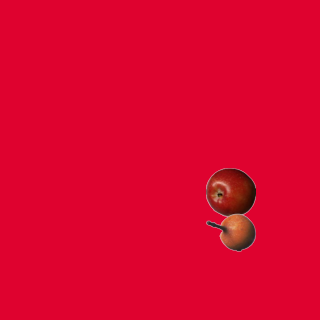Apple Braeburn: (205, 167, 255, 217)
Granadilla: (205, 207, 255, 257)
